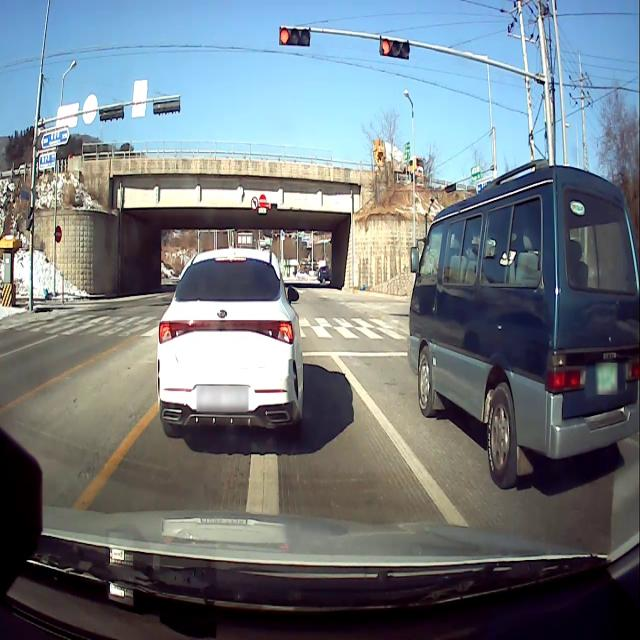Red Light: (277, 26, 291, 48), (379, 34, 391, 58)
